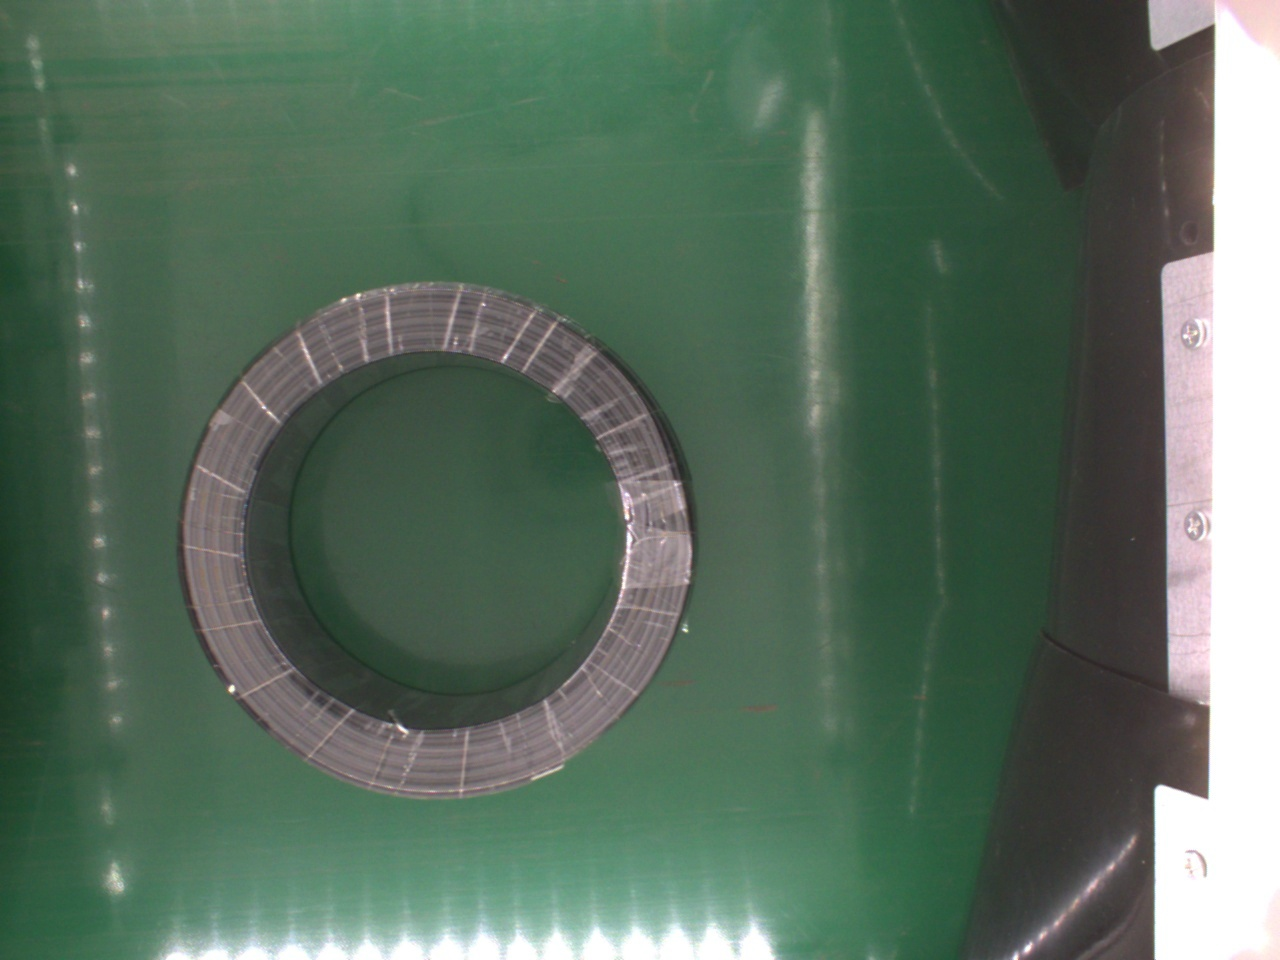black: (175, 281, 691, 798)
